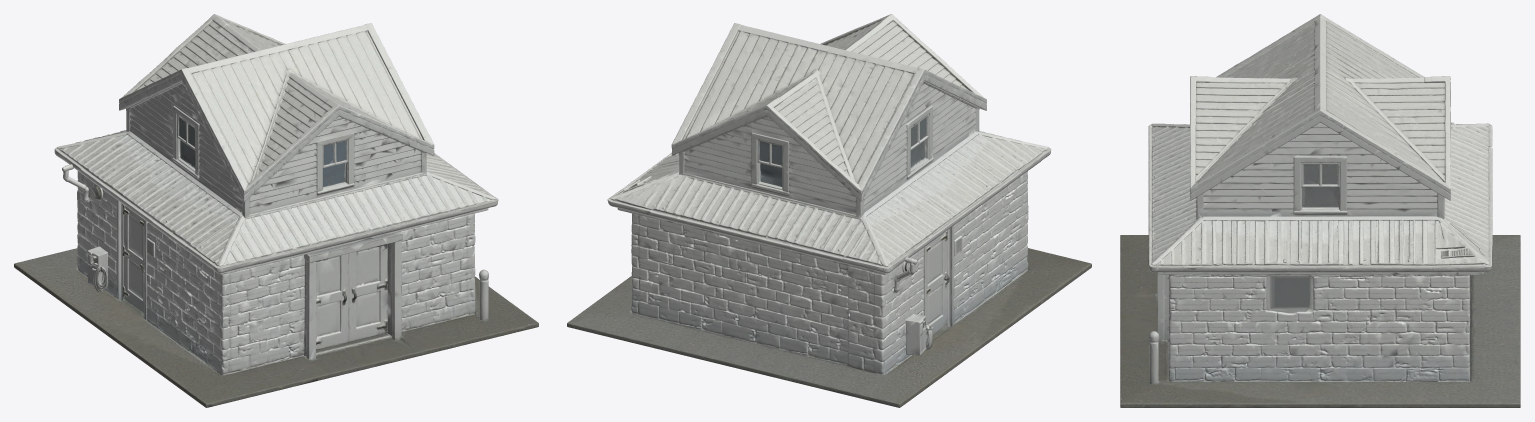
File: bermuda-boathouse.glb
3 views of the same model, side by side, from view 1: azimuth 30°, elevation 25°; view 2: azimuth 150°, elevation 25°; view 3: azimuth 270°, elevation 25° (orthographic). The views are drawn at different scales.
Bounding box in the file's own units: 1.9 × 1.37 × 1.9.
Materials: 1 (1 with a texture image).
